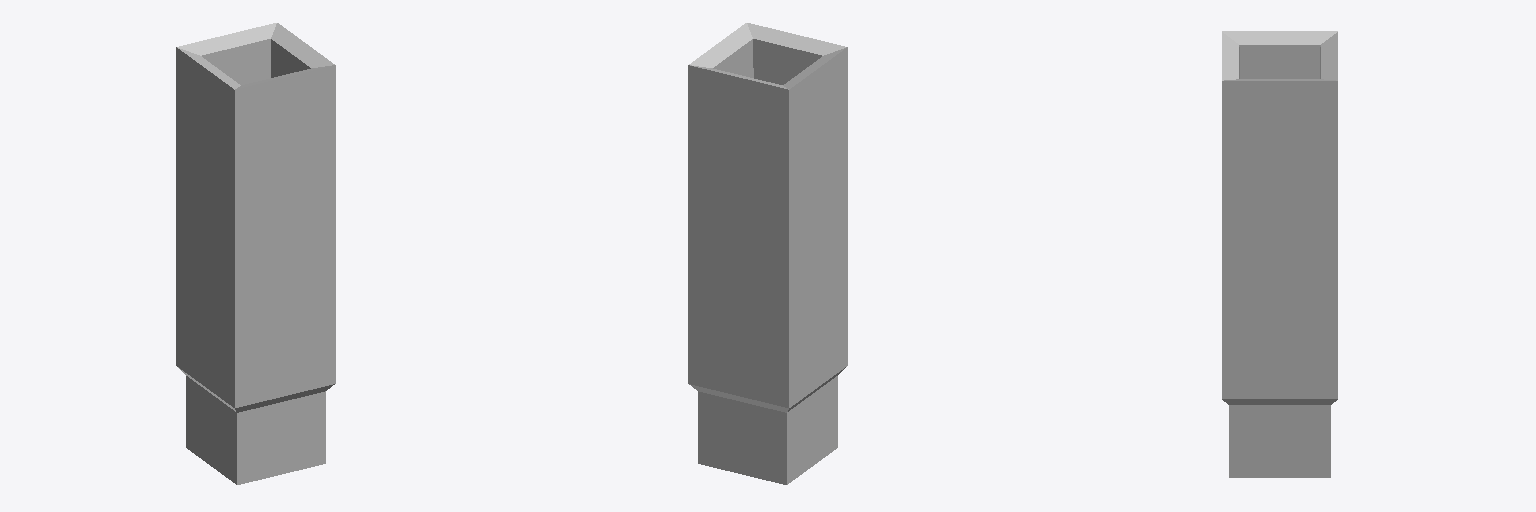
Rendered from pin.obj.
3 renders of one model, left to right at view 1: azimuth 30°, elevation 25°; view 2: azimuth 150°, elevation 25°; view 3: azimuth 270°, elevation 25°, orthographic.
Visible parts, largest first — view 1: Cube; view 2: Cube; view 3: Cube.
Part boxes in pixels (x1,y1,x2,y2): Cube: (176,23,335,484); Cube: (688,23,847,484); Cube: (1222,31,1337,477).
Bounding box in the file's own units: 2 × 7.57 × 2.